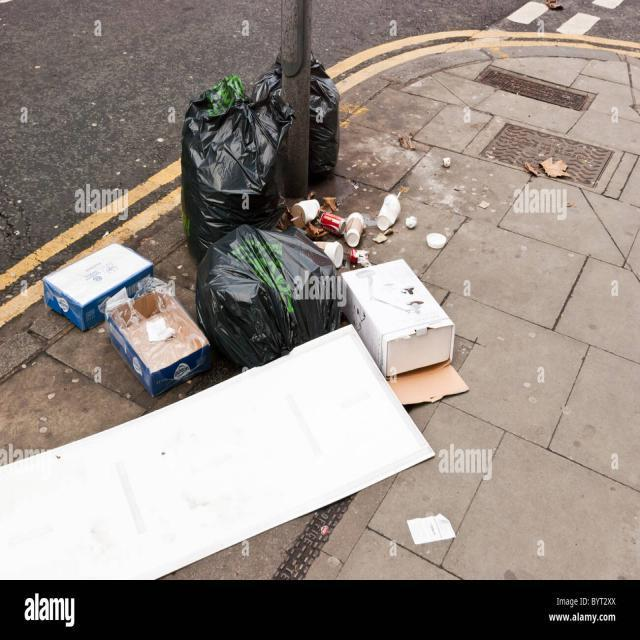Trashbag: (193, 230, 341, 361), (178, 86, 282, 245), (262, 64, 336, 167)
